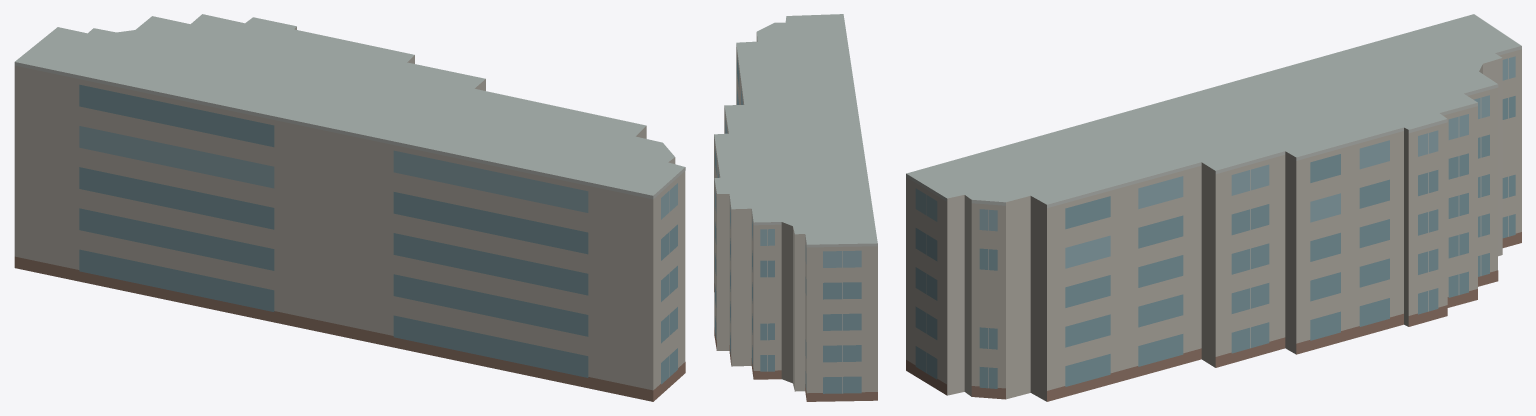
Rendered from survey-upis-33032887.glb.
3 views of the same model, side by side, from view 1: azimuth 30°, elevation 25°; view 2: azimuth 150°, elevation 25°; view 3: azimuth 270°, elevation 25° (orthographic). The views are drawn at different scales.
Parts seen in each view (by area): view 1: survey-upis-33032887.tmp; view 2: survey-upis-33032887.tmp; view 3: survey-upis-33032887.tmp.
Part boxes in pixels (x1,y1,x2,y2): survey-upis-33032887.tmp: (14,14,685,401); survey-upis-33032887.tmp: (714,14,877,401); survey-upis-33032887.tmp: (906,14,1521,401).
Size of the model in its own units: 28.89 by 13.91 by 39.39.
